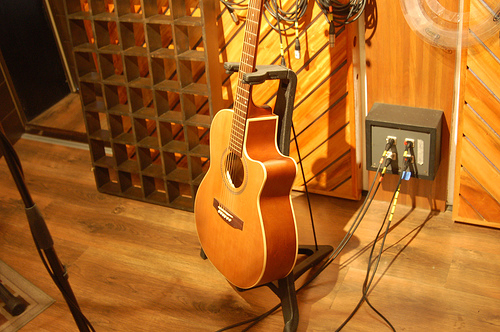guitar: (191, 1, 299, 290)
